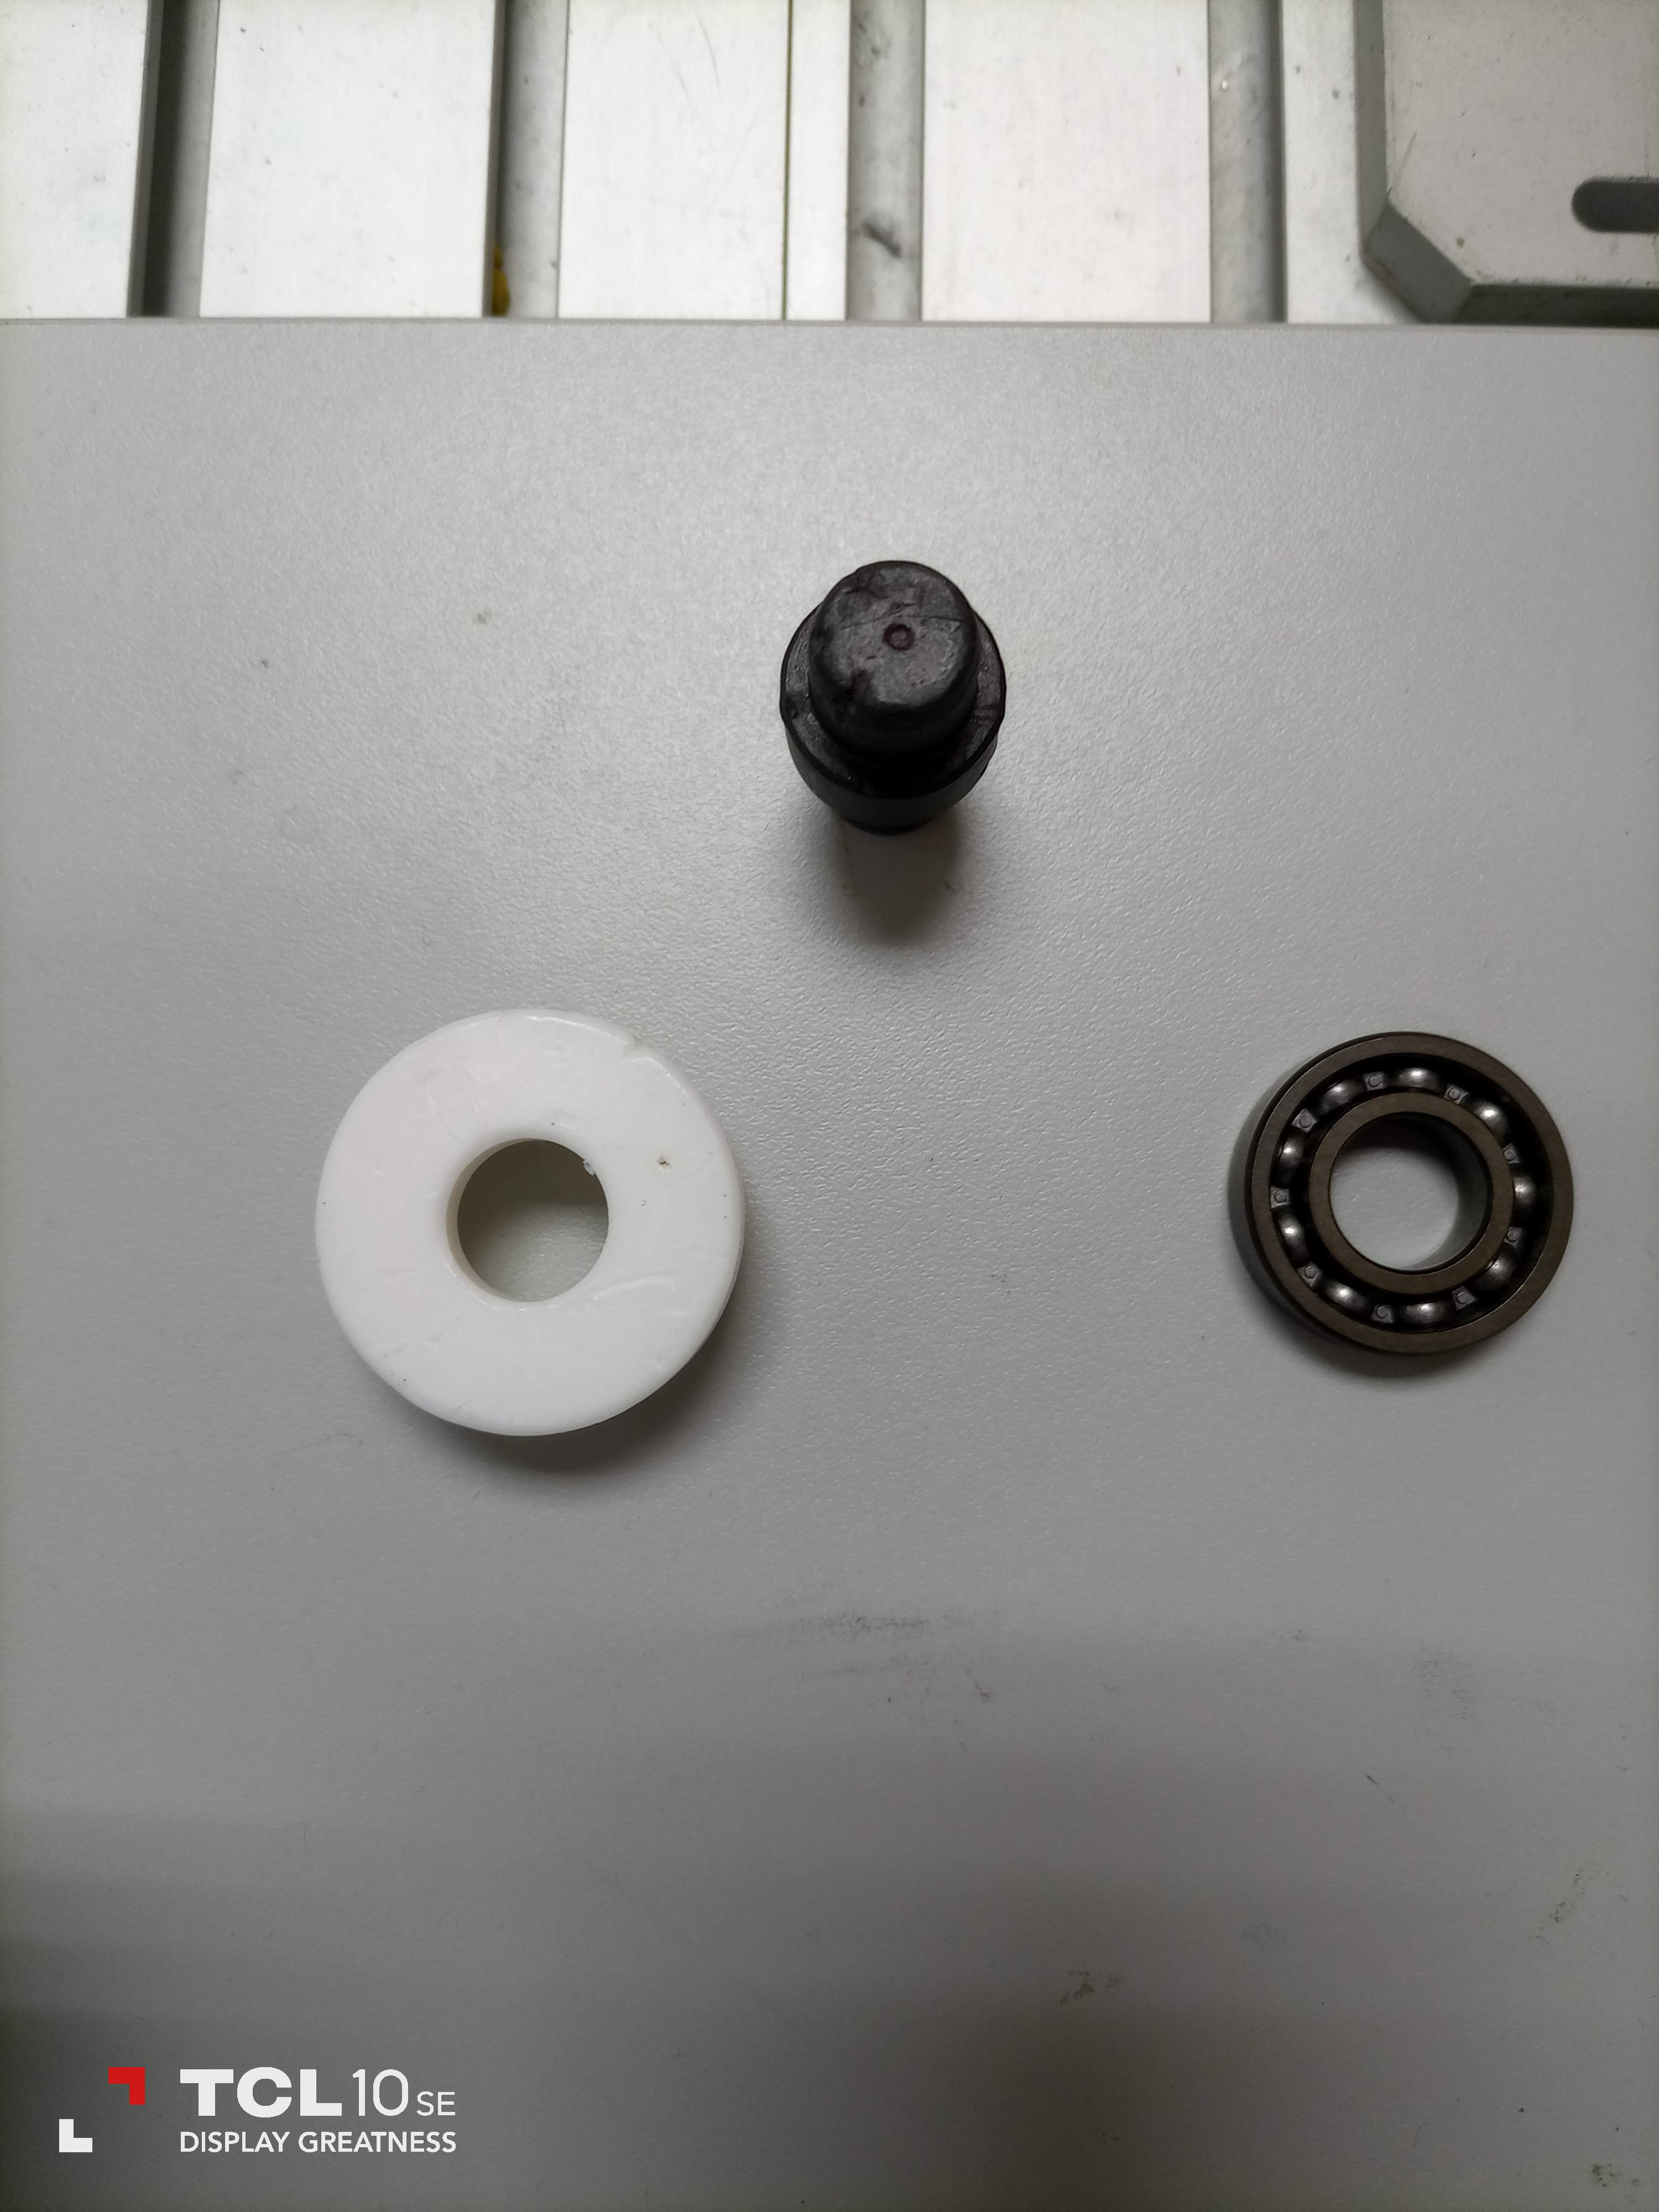Ardatza: (774, 545, 1025, 822)
Roda: (1227, 1031, 1589, 1379)
Tapa: (310, 1003, 755, 1463)
